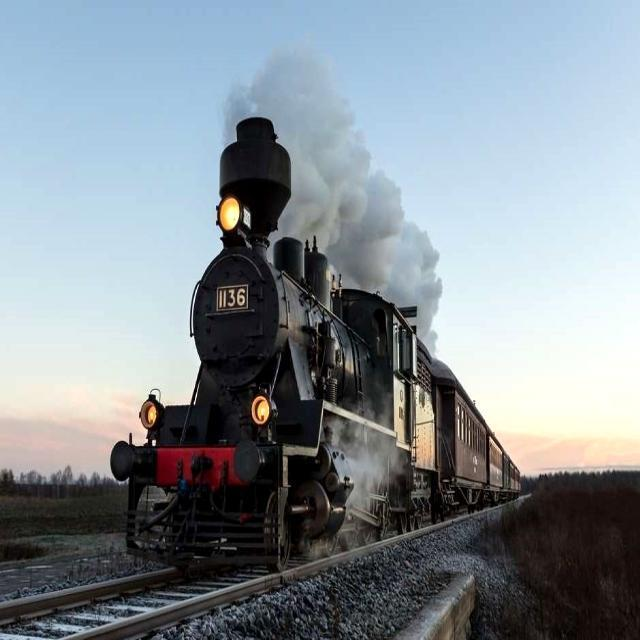Smoke: (256, 18, 442, 324), (334, 395, 412, 520)
